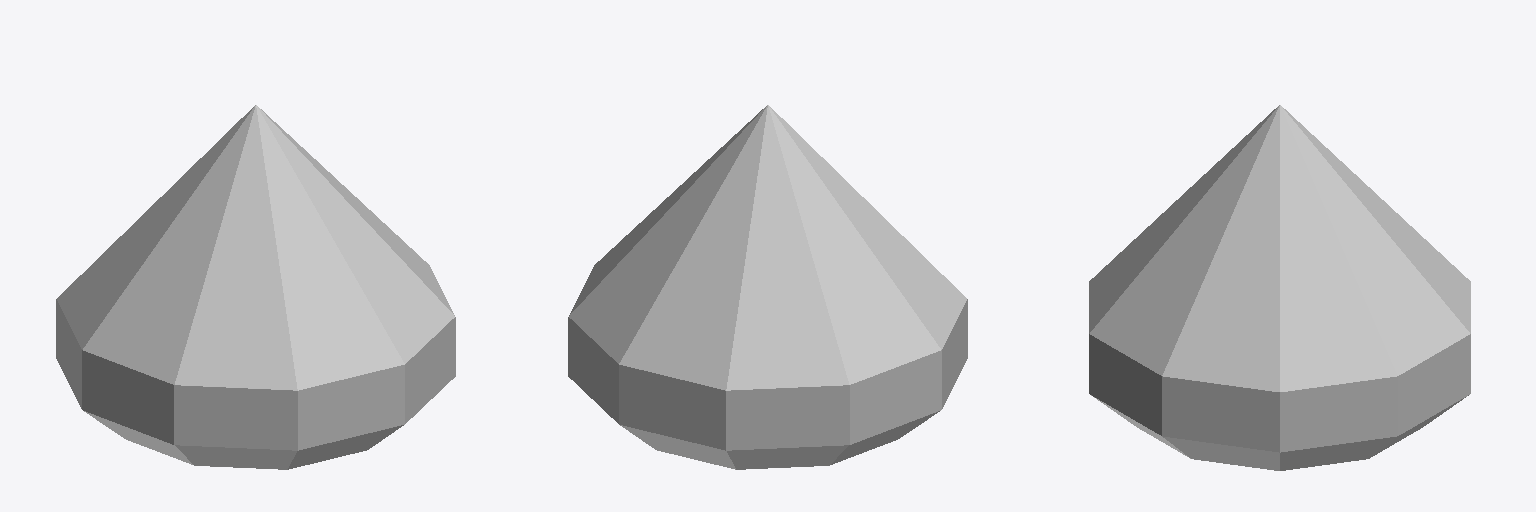
The model's file is Gemstone.obj.
3 renders of one model, left to right at view 1: azimuth 30°, elevation 25°; view 2: azimuth 150°, elevation 25°; view 3: azimuth 270°, elevation 25°, orthographic.
Visible parts, largest first — view 1: pCylinder2; view 2: pCylinder2; view 3: pCylinder2.
Boxes of the visible parts, <box> form: pCylinder2: <box>56,105,455,469</box>; pCylinder2: <box>568,105,967,469</box>; pCylinder2: <box>1089,105,1470,470</box>.
Bounding box in the file's own units: 1 × 0.834 × 0.9511.